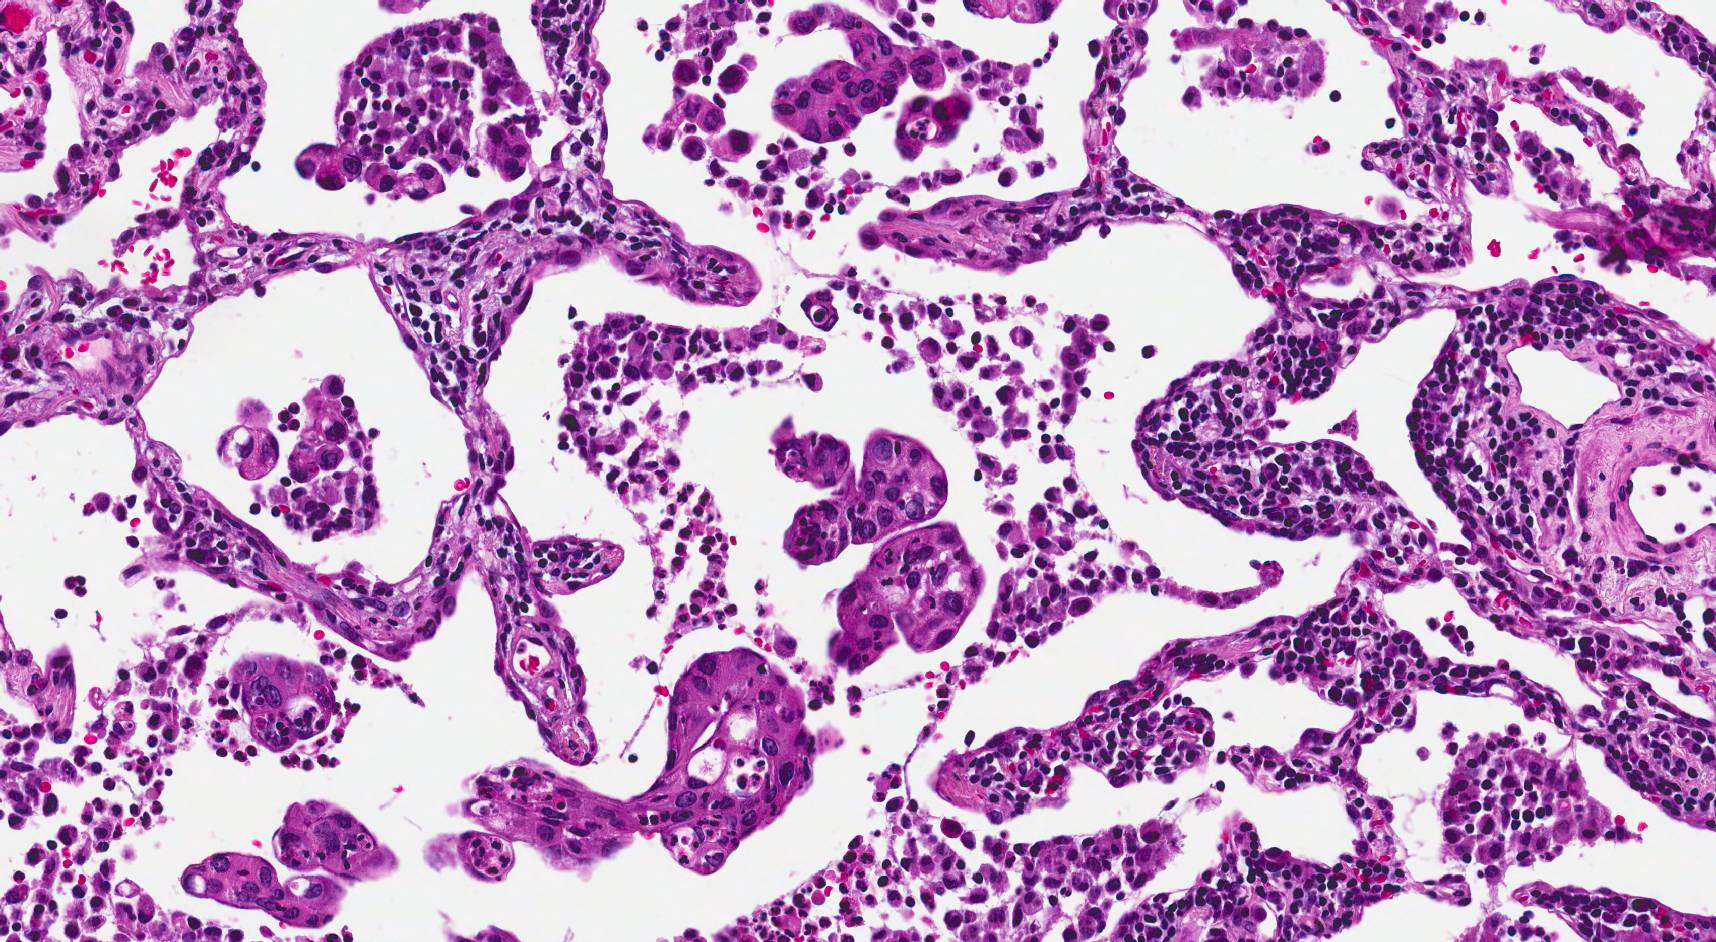stas: (462, 647, 813, 880), (772, 3, 945, 143), (828, 523, 985, 670), (782, 428, 949, 565), (177, 849, 344, 929), (272, 800, 403, 880), (234, 655, 334, 752), (286, 374, 347, 482), (773, 415, 850, 488), (641, 90, 727, 155), (217, 399, 279, 483), (897, 93, 974, 160), (365, 157, 449, 202), (294, 140, 365, 189)
